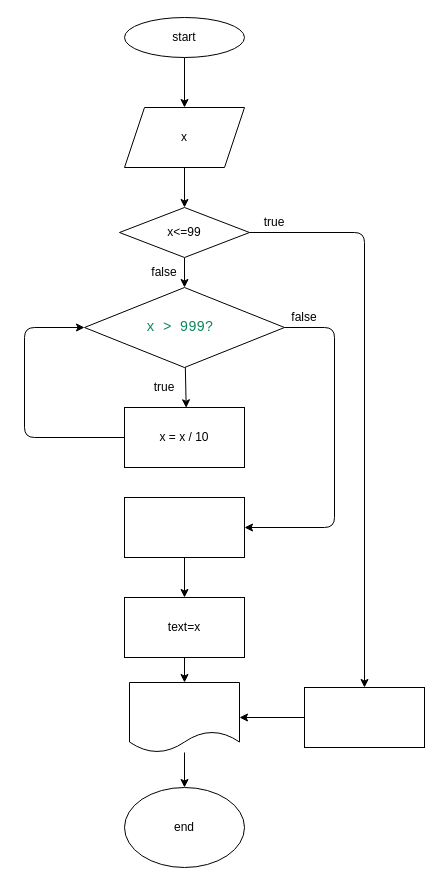
The diagram is 442 pixels wide and 885 high, and some of its shapes have lost their labels. Here are the shapes that lost their labels. From the top down, the centre of each, then its label:
pixel 184 527: x = x % 10
pixel 184 717: print text
pixel 364 717: text =Третьей цифры нет
